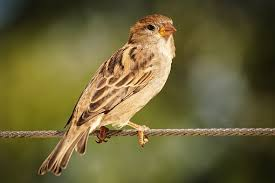hsparrow: (36, 12, 178, 182)
